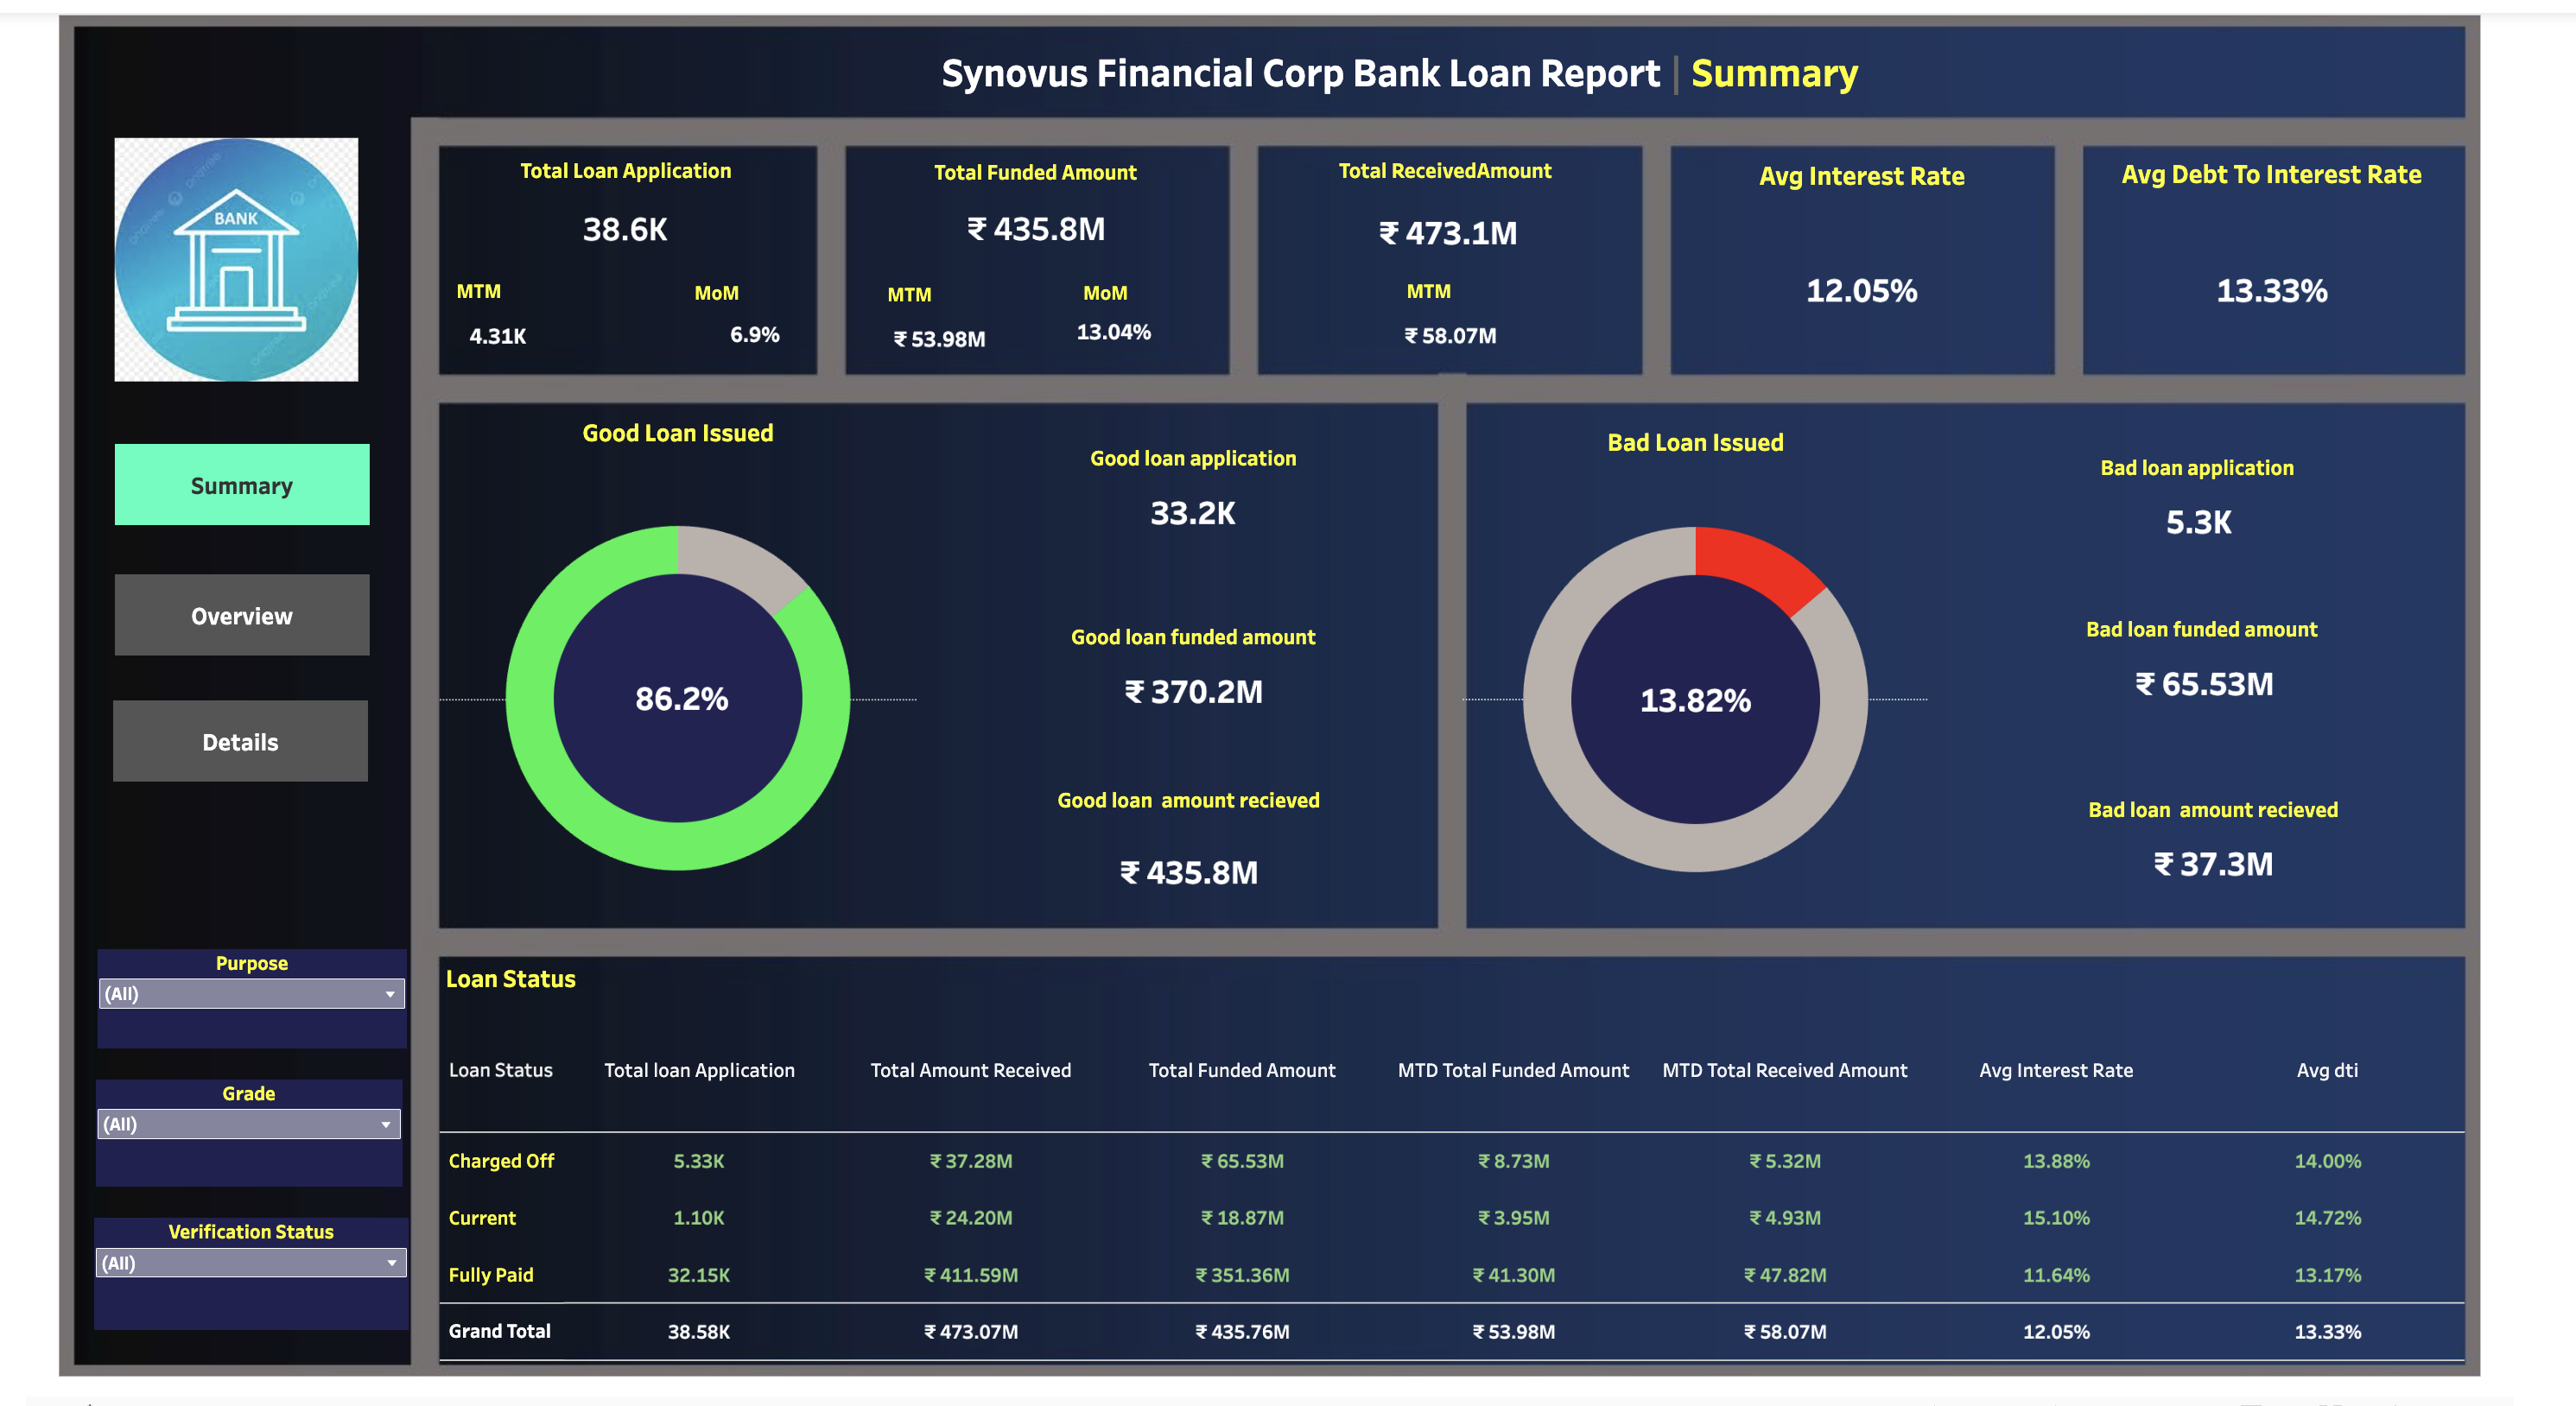

The dashboard page shown, as its layout file describes it:
{"tool":"tableau","page":{"name":"SUMMARY","canvas":[1600,900],"ordinal":2},"visuals":[{"type":"image","param":"Image/Tableau Background 1.jpg","box":[8,8,1584,884]},{"type":"text","box":[589,8,613,81]},{"type":"image","param":"Image/bank logo.jpg","box":[51,91,169,157]},{"type":"worksheet","title":"Total Loan Application","mark":"Automatic","box":[264,96,244,72]},{"type":"worksheet","title":"Total ReceivedAmount ","mark":"Automatic","box":[792,96,245,77]},{"type":"worksheet","title":"Avg Debt To Interest Rate","mark":"Automatic","box":[1322,96,245,147]},{"type":"worksheet","title":"Total Funded Amount","mark":"Automatic","box":[527,97,245,70]},{"type":"worksheet","title":"Avg Interest Rate","mark":"Automatic","box":[1058,97,246,145]},{"type":"worksheet","title":"MTD Loan Application","mark":"Automatic","box":[259,170,88,96]},{"type":"text","box":[277,175,72,30]},{"type":"text","box":[888,175,72,30]},{"type":"text","box":[430,176,72,30]},{"type":"text","box":[680,176,72,30]},{"type":"text","box":[554,177,72,30]},{"type":"worksheet","title":"MTD Total Received Amount","mark":"Automatic","box":[835,180,161,75]},{"type":"worksheet","title":"MTD Funded Amount","mark":"Automatic","box":[521,187,132,66]},{"type":"worksheet","title":"MOM Total Funded Amount","mark":"Automatic","box":[668,205,87,31]},{"type":"worksheet","title":"MOM Loan Application","mark":"Automatic","box":[429,207,69,62]},{"type":"worksheet","title":"Good loan issued","mark":"Pie","rows":["Calculation_1130403563791482881","Calculation_1130403563791482881"],"box":[266,264,307,339]},{"type":"worksheet","title":"Bad loan issued","mark":"Pie","rows":["Calculation_1130403563791482881","Calculation_1130403563791482881"],"box":[924,270,300,329]},{"type":"worksheet","title":"Good loan application","mark":"Automatic","box":[601,277,300,75]},{"type":"worksheet","title":"Bad loan application ","mark":"Automatic","box":[1248,283,300,75]},{"type":"dashboard-object","box":[57,288,164,52]},{"type":"dashboard-object","box":[57,372,164,52]},{"type":"worksheet","title":"Bad loan %","mark":"Automatic","box":[1005,380,138,144]},{"type":"worksheet","title":"Bad loan funded amount ","mark":"Automatic","box":[1251,387,300,75]},{"type":"worksheet","title":"Good loan funded amount","mark":"Automatic","box":[601,392,300,75]},{"type":"worksheet","title":"Good loan %","mark":"Automatic","box":[368,393,108,117]},{"type":"dashboard-object","box":[56,453,164,52]},{"type":"worksheet","title":"Good loan  amount recieved","mark":"Automatic","box":[598,497,300,98]},{"type":"worksheet","title":"Bad loan  amount recieved","mark":"Automatic","box":[1257,503,300,75]},{"type":"filter","title":"Good loan issued","param":"[federated.0f3mjcy0o69zlp1cbd7410tlexed].[none:purpose:nk]","box":[46,613,199,64]},{"type":"worksheet","title":"Loan Status","mark":"Automatic","rows":["loan_status"],"box":[266,615,1303,263]},{"type":"filter","title":"Good loan issued","param":"[federated.0f3mjcy0o69zlp1cbd7410tlexed].[none:grade:nk]","box":[45,697,197,69]},{"type":"filter","title":"Good loan issued","param":"[federated.0f3mjcy0o69zlp1cbd7410tlexed].[none:verification_status:nk]","box":[44,786,202,72]}]}

Visuals, with their boxes on the page's 1600x900 design canvas (x1, y1, x2, y2). These are canvas units, not pixel positions in the 2576x1406 screenshot, which may show the page scaled, cropped or inside an application window:
image: [8,8,1592,892]
text: [589,8,1202,89]
image: [51,91,220,248]
"Total Loan Application" worksheet: [264,96,508,168]
"Total ReceivedAmount " worksheet: [792,96,1037,173]
"Avg Debt To Interest Rate" worksheet: [1322,96,1567,243]
"Total Funded Amount" worksheet: [527,97,772,167]
"Avg Interest Rate" worksheet: [1058,97,1304,242]
"MTD Loan Application" worksheet: [259,170,347,266]
text: [277,175,349,205]
text: [888,175,960,205]
text: [430,176,502,206]
text: [680,176,752,206]
text: [554,177,626,207]
"MTD Total Received Amount" worksheet: [835,180,996,255]
"MTD Funded Amount" worksheet: [521,187,653,253]
"MOM Total Funded Amount" worksheet: [668,205,755,236]
"MOM Loan Application" worksheet: [429,207,498,269]
"Good loan issued" worksheet (Pie marks): [266,264,573,603]
"Bad loan issued" worksheet (Pie marks): [924,270,1224,599]
"Good loan application" worksheet: [601,277,901,352]
"Bad loan application " worksheet: [1248,283,1548,358]
dashboard-object: [57,288,221,340]
dashboard-object: [57,372,221,424]
"Bad loan %" worksheet: [1005,380,1143,524]
"Bad loan funded amount " worksheet: [1251,387,1551,462]
"Good loan funded amount" worksheet: [601,392,901,467]
"Good loan %" worksheet: [368,393,476,510]
dashboard-object: [56,453,220,505]
"Good loan  amount recieved" worksheet: [598,497,898,595]
"Bad loan  amount recieved" worksheet: [1257,503,1557,578]
"Good loan issued" filter: [46,613,245,677]
"Loan Status" worksheet: [266,615,1569,878]
"Good loan issued" filter: [45,697,242,766]
"Good loan issued" filter: [44,786,246,858]
